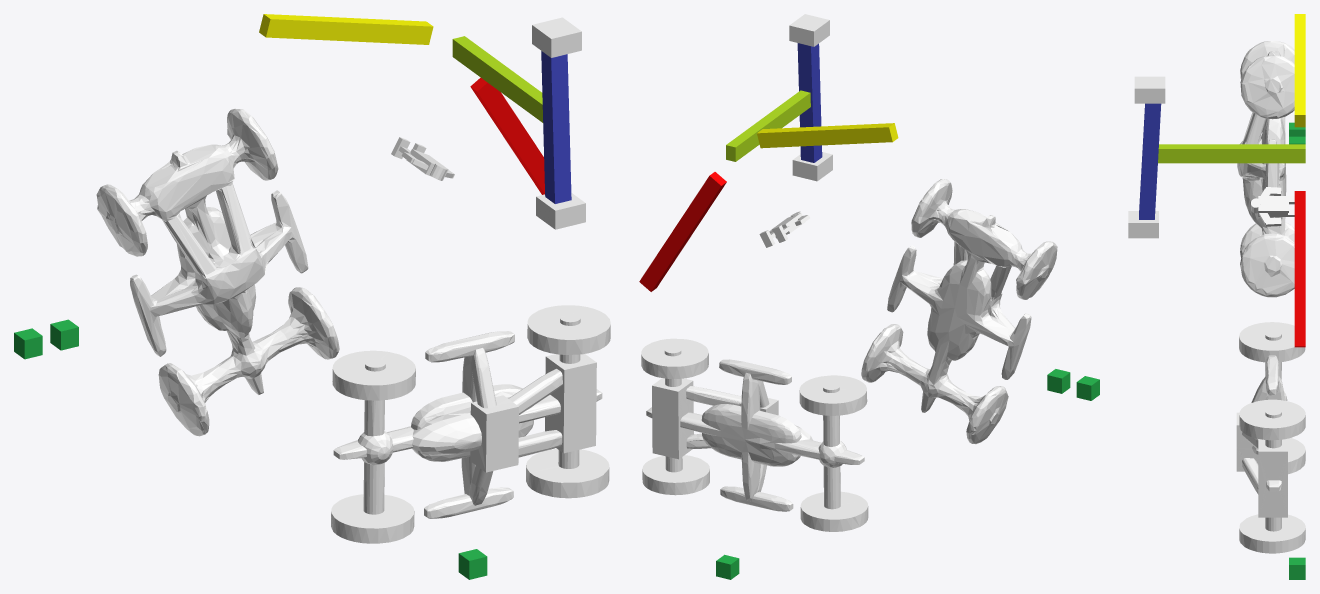
Rendered from cars_diff_v2.obj.
3 renders of one model, left to right at view 1: azimuth 30°, elevation 25°; view 2: azimuth 150°, elevation 25°; view 3: azimuth 270°, elevation 25°, orthographic. The views are drawn at different scales.
Parts seen in each view (by area): view 1: Object.1, Object.2, Object.8, Object.10, Object.7, Object.9, Object.12, Object.11, Object.3, Object.6, Object.4, Object.5; view 2: Object.1, Object.2, Object.8, Object.9, Object.10, Object.7, Object.12, Object.11, Object.3; view 3: Object.1, Object.2, Object.7, Object.10, Object.9, Object.8, Object.3, Object.12, Object.11, Object.6.
Part boxes in pixels (x1=…): Object.1: x1=331, y1=305, x2=610, y2=543; Object.2: x1=96, y1=108, x2=339, y2=436; Object.8: x1=259, y1=14, x2=433, y2=44; Object.10: x1=541, y1=51, x2=571, y2=203; Object.7: x1=452, y1=36, x2=543, y2=122; Object.9: x1=470, y1=77, x2=544, y2=194; Object.12: x1=532, y1=17, x2=581, y2=57; Object.11: x1=536, y1=193, x2=585, y2=229; Object.3: x1=391, y1=137, x2=454, y2=180; Object.6: x1=458, y1=549, x2=487, y2=579; Object.4: x1=50, y1=319, x2=78, y2=350; Object.5: x1=14, y1=328, x2=42, y2=359; Object.1: x1=641, y1=338, x2=868, y2=531; Object.2: x1=861, y1=179, x2=1057, y2=444; Object.8: x1=757, y1=123, x2=898, y2=148; Object.9: x1=639, y1=172, x2=726, y2=291; Object.10: x1=797, y1=43, x2=822, y2=162; Object.7: x1=726, y1=90, x2=810, y2=161; Object.12: x1=789, y1=14, x2=829, y2=46; Object.11: x1=792, y1=152, x2=832, y2=181; Object.3: x1=759, y1=211, x2=809, y2=247; Object.1: x1=1236, y1=322, x2=1305, y2=553; Object.2: x1=1237, y1=40, x2=1294, y2=297; Object.7: x1=1158, y1=144, x2=1305, y2=163; Object.10: x1=1139, y1=103, x2=1161, y2=219; Object.9: x1=1294, y1=191, x2=1305, y2=347; Object.8: x1=1294, y1=14, x2=1305, y2=127; Object.3: x1=1251, y1=187, x2=1294, y2=226; Object.12: x1=1134, y1=76, x2=1165, y2=103; Object.11: x1=1128, y1=211, x2=1158, y2=238; Object.6: x1=1289, y1=557, x2=1305, y2=579.
Size of the model in its own units: 158 by 163 by 53.4.
